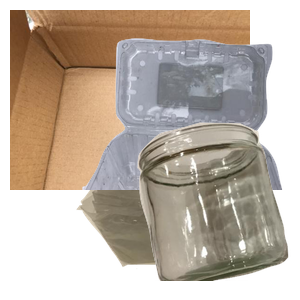cardboard: (10, 10, 250, 190)
glass: (135, 120, 300, 300)
plastic: (80, 36, 300, 216)
trash: (74, 148, 273, 300)
